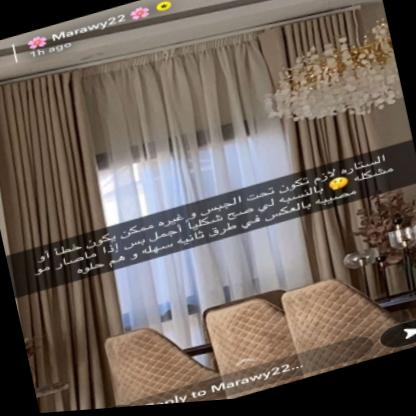Curtains: (0, 0, 416, 382)
